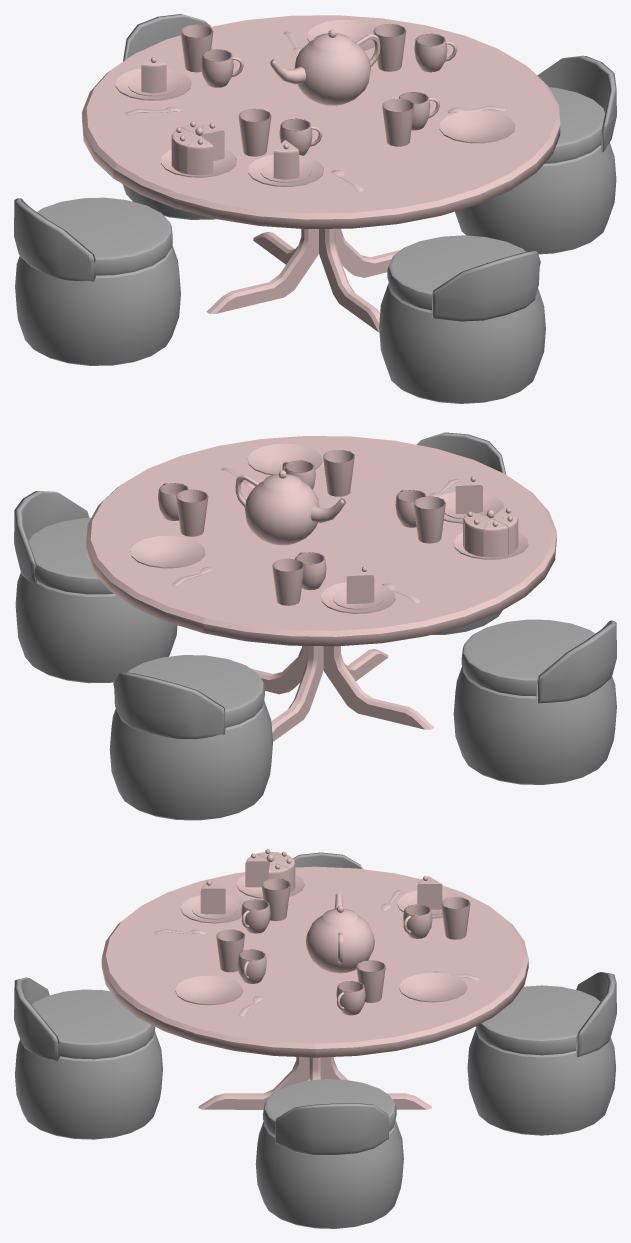
Rendered from SM_Room_TeaParty.fbx.
The picture shows the model from 3 angles, top to bottom: view 1: azimuth 30°, elevation 25°; view 2: azimuth 150°, elevation 25°; view 3: azimuth 270°, elevation 25°; orthographic projection. The views are drawn at different scales.
Visible parts, largest first — view 1: Table, TeaParty, TeaParty_Seat_01, TeaParty_Seat_04, TeaParty_Seat_03, TeaParty_Seat_02; view 2: Table, TeaParty_Seat_01, TeaParty, TeaParty_Seat_02, TeaParty_Seat_03, TeaParty_Seat_04; view 3: Table, TeaParty, TeaParty_Seat_04, TeaParty_Seat_02, TeaParty_Seat_03, TeaParty_Seat_01.
Boxes of the visible parts, x1,y1,x2,y2 form: Table: (82, 15, 560, 332); TeaParty: (115, 19, 515, 192); TeaParty_Seat_01: (14, 197, 180, 365); TeaParty_Seat_04: (379, 235, 545, 403); TeaParty_Seat_03: (455, 55, 616, 254); TeaParty_Seat_02: (122, 14, 215, 219); Table: (86, 436, 556, 741); TeaParty_Seat_01: (453, 619, 616, 784); TeaParty: (130, 443, 528, 613); TeaParty_Seat_02: (109, 655, 272, 820); TeaParty_Seat_03: (14, 491, 177, 683); TeaParty_Seat_04: (416, 432, 506, 634); Table: (101, 866, 528, 1109); TeaParty: (154, 849, 479, 1016); TeaParty_Seat_04: (14, 977, 162, 1139); TeaParty_Seat_02: (467, 972, 616, 1135); TeaParty_Seat_03: (255, 1079, 403, 1228); TeaParty_Seat_01: (293, 852, 362, 869).
Bounding box in the file's own units: 2.39 × 0.9334 × 2.39.
